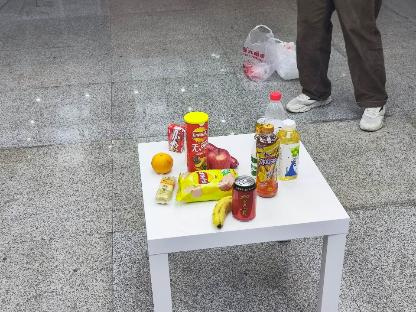Can: (232, 176, 258, 222)
Others: (184, 112, 208, 171), (165, 121, 184, 155)
Plastic Bottle: (258, 124, 278, 194), (279, 120, 299, 180)
